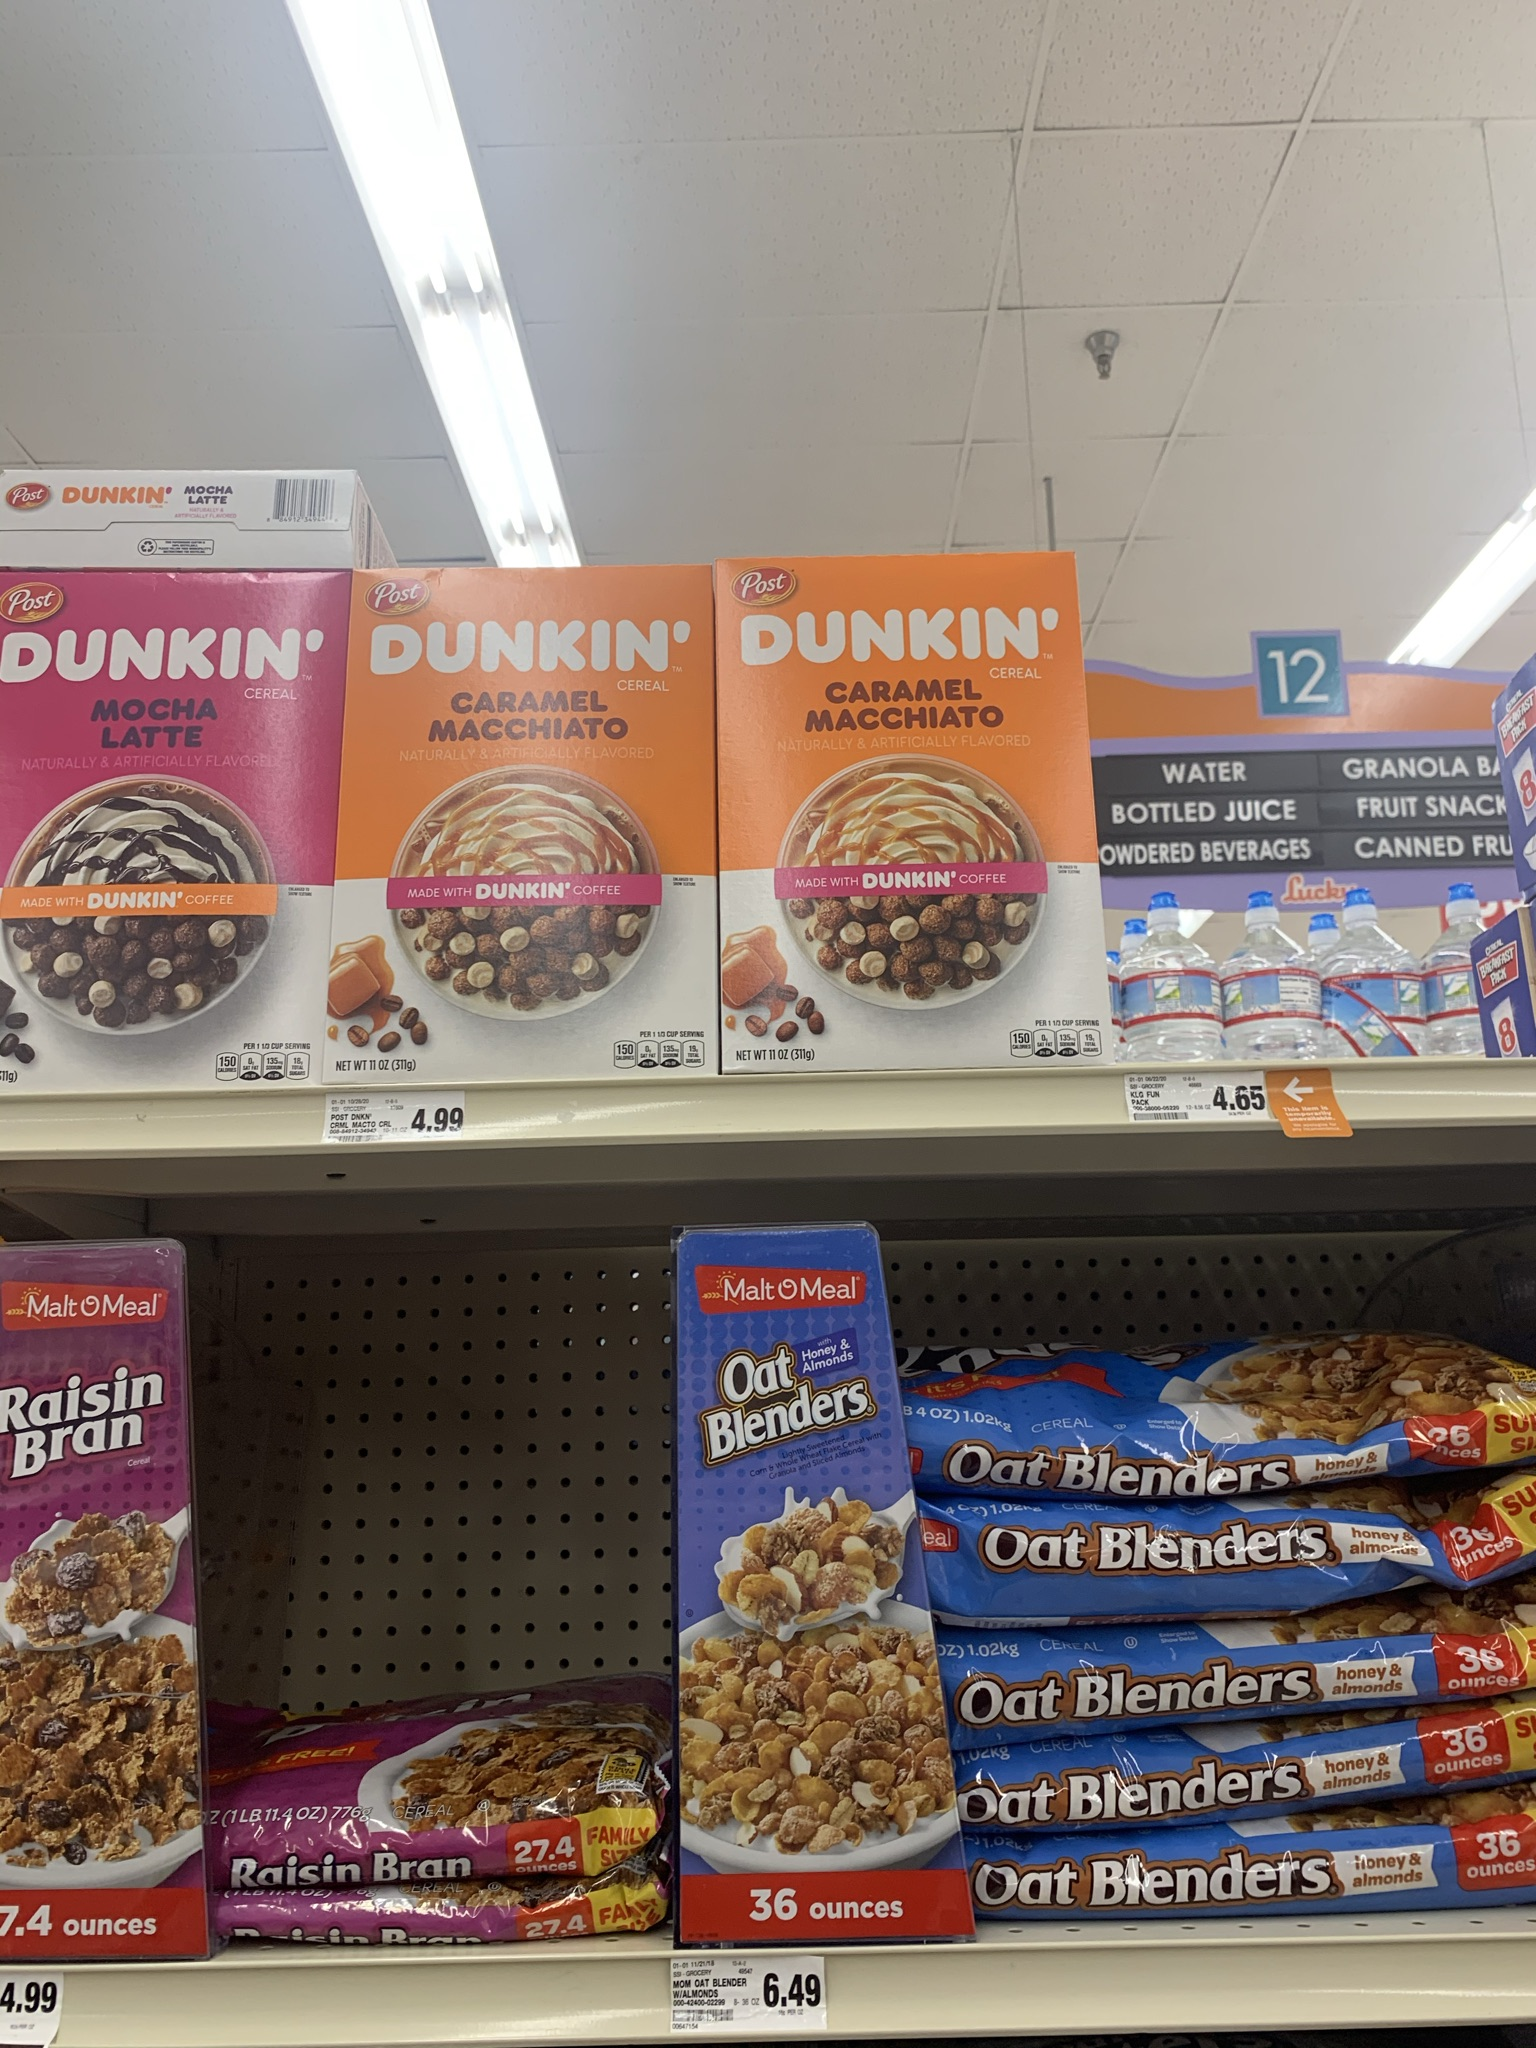Cereal dunkin: (349, 576, 712, 1055), (739, 571, 1099, 1051), (11, 590, 332, 1079)
Cereal oat blenders: (678, 1238, 963, 1974), (994, 1801, 1526, 1901), (989, 1511, 1509, 1600), (933, 1400, 1439, 1471), (978, 1630, 1536, 1661), (997, 1738, 1509, 1756)
Cereal raisin: (687, 1238, 925, 1916), (10, 1288, 179, 1934), (248, 1779, 647, 1945)
